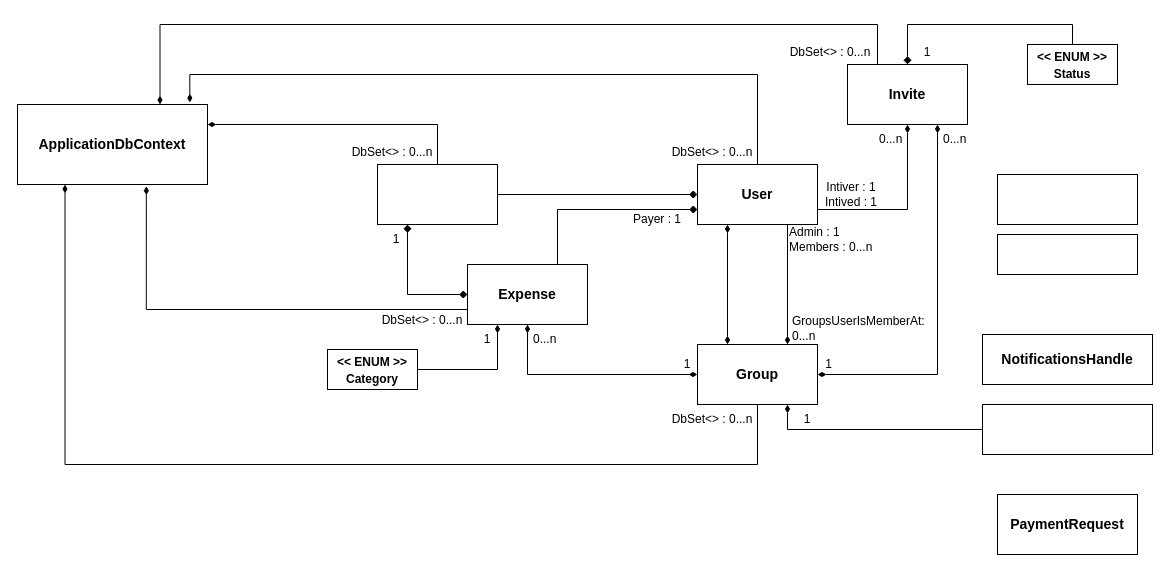
Some shapes in this 1170 by 572 pixel diagram are drawn without their labels. The shapes that lost their labels are listed below. From the top down, each one's box as (x1, y1, x2, y2) in pixels, then its label:
(376, 164, 498, 224): ExpenseSplit
(996, 174, 1138, 224): PasswordValidator
(996, 234, 1138, 274): EmailValidator
(982, 404, 1152, 454): ExpenseHandler
